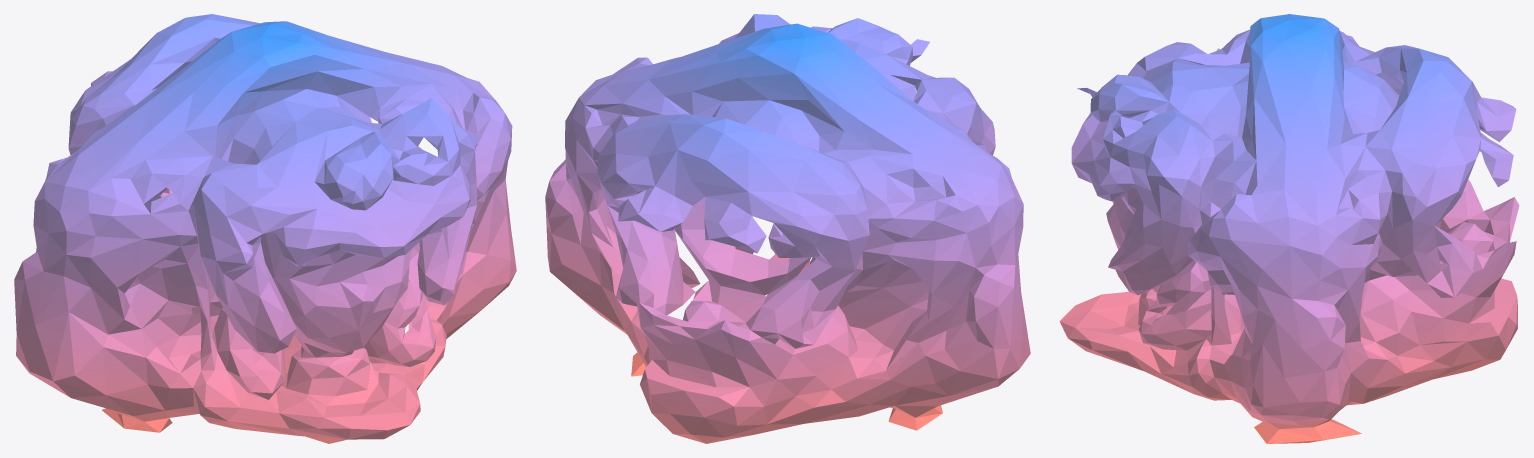
File: 25_cyb_laser_gradient_fish_scales_2960_2026_10_03_22478c.glb
The picture shows the model from 3 angles, left to right: view 1: azimuth 30°, elevation 25°; view 2: azimuth 150°, elevation 25°; view 3: azimuth 270°, elevation 25°; orthographic projection. The views are drawn at different scales.
Visible parts, largest first — view 1: geometry_0; view 2: geometry_0; view 3: geometry_0.
Boxes of the visible parts, left/top/right/bottom form: geometry_0: left=14, top=14, right=516, bottom=443; geometry_0: left=545, top=14, right=1030, bottom=443; geometry_0: left=1059, top=14, right=1519, bottom=443.
Size of the model in its own units: 0.9919 by 0.7565 by 0.8531.
